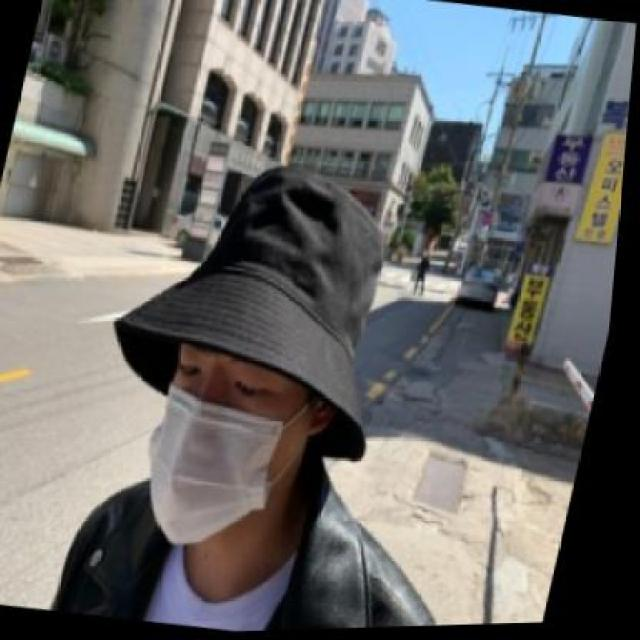hat: (91, 138, 438, 471)
